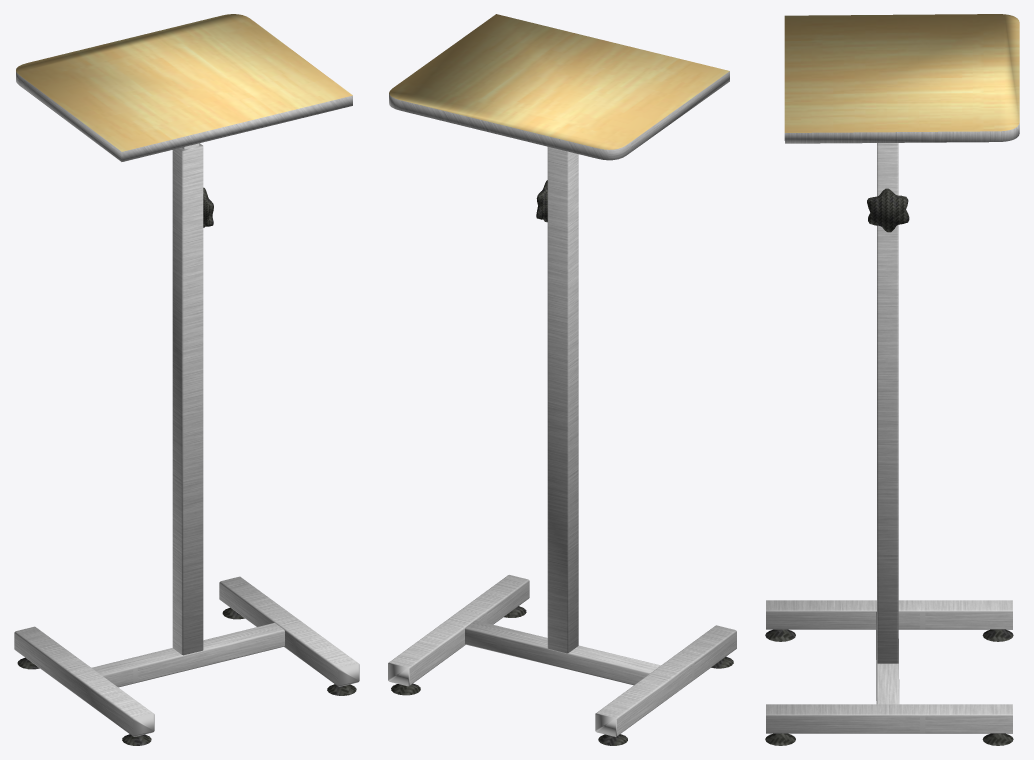
The model's file is LecturnTable.fbx.
The picture shows the model from 3 angles, left to right: view 1: azimuth 30°, elevation 25°; view 2: azimuth 150°, elevation 25°; view 3: azimuth 270°, elevation 25°; orthographic projection. The views are drawn at different scales.
Parts seen in each view (by area): view 1: default; view 2: default; view 3: default.
Part boxes in pixels (<box>): default: <box>14,14,359,745</box>; default: <box>388,14,736,745</box>; default: <box>765,14,1019,745</box>.
Bounding box in the file's own units: 51.28 × 125 × 47.02.
